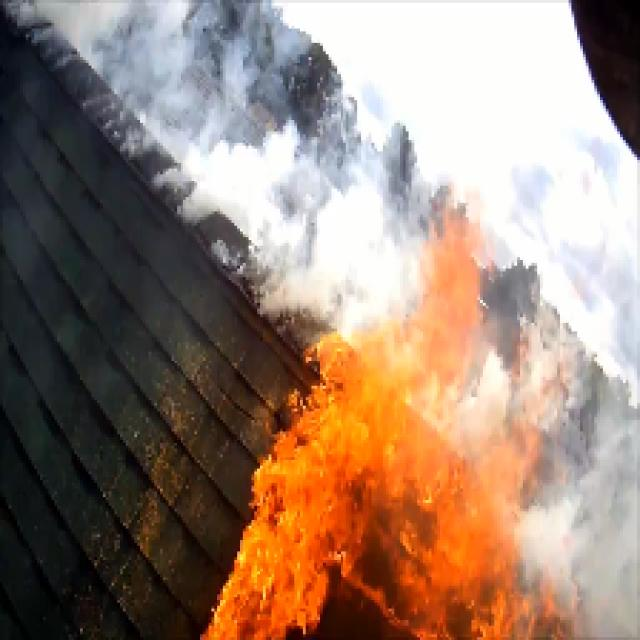fire: (268, 355, 375, 615), (382, 450, 488, 640)
smoke: (205, 124, 411, 302), (323, 0, 566, 121), (418, 128, 634, 245), (541, 468, 637, 632), (88, 5, 208, 92)
